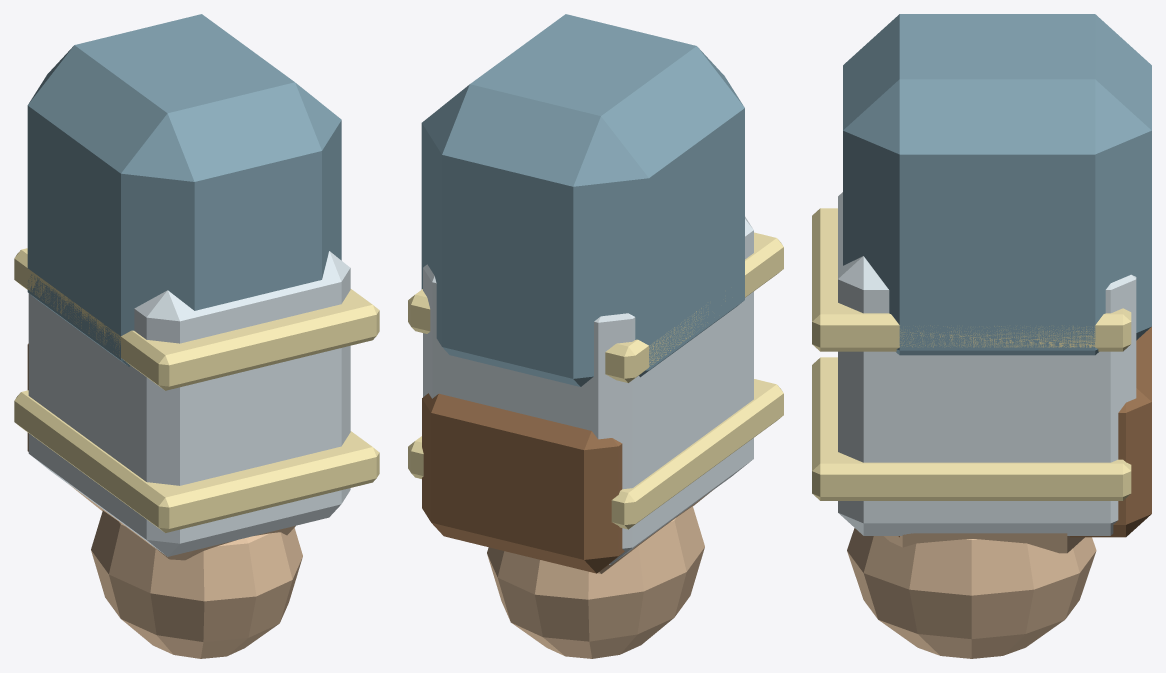
File: Storm_Runner_LeftArm.fbx
3 renders of one model, left to right at view 1: azimuth 30°, elevation 25°; view 2: azimuth 150°, elevation 25°; view 3: azimuth 270°, elevation 25°, orthographic. The views are drawn at different scales.
Parts seen in each view (by area): view 1: Storm_Runner_LeftArm; view 2: Storm_Runner_LeftArm; view 3: Storm_Runner_LeftArm.
Boxes of the visible parts, x1,y1,x2,y2 form: Storm_Runner_LeftArm: (14,14,379,658); Storm_Runner_LeftArm: (408,14,783,658); Storm_Runner_LeftArm: (812,14,1151,658).
Size of the model in its own units: 26 by 64.62 by 33.
